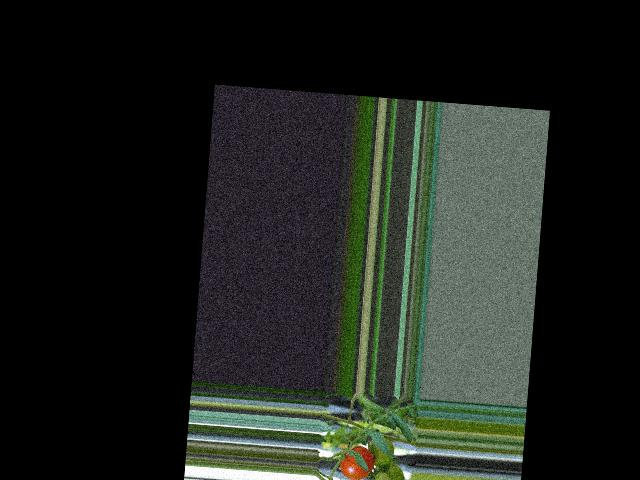tomato: (339, 445, 375, 480)
